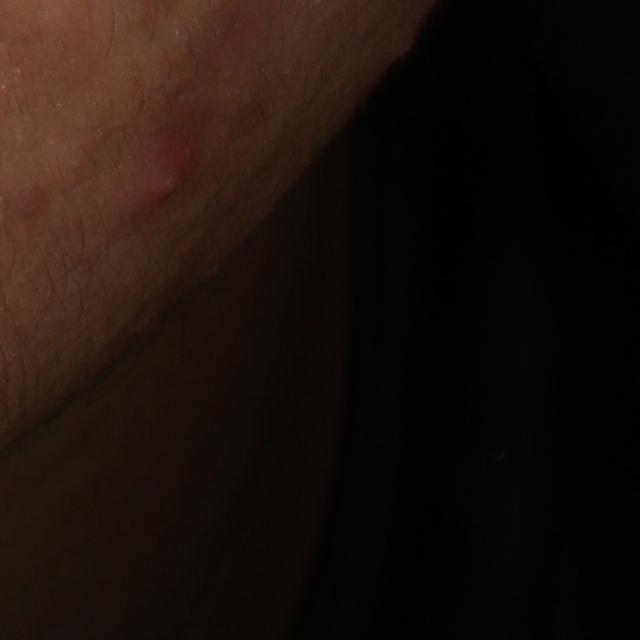pustule: (127, 136, 191, 205)
